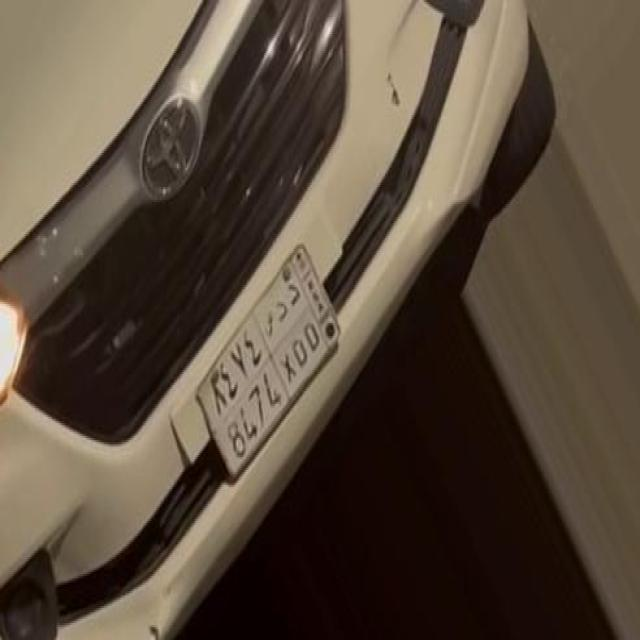Car-plate: (178, 200, 361, 521)
